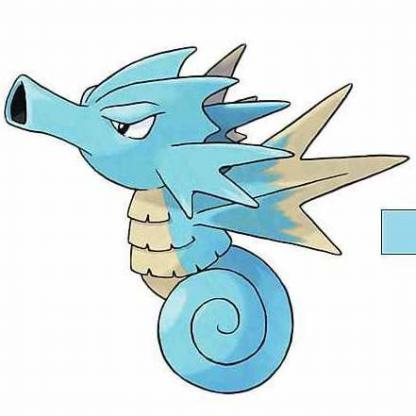Seadra: (1, 39, 399, 410)
